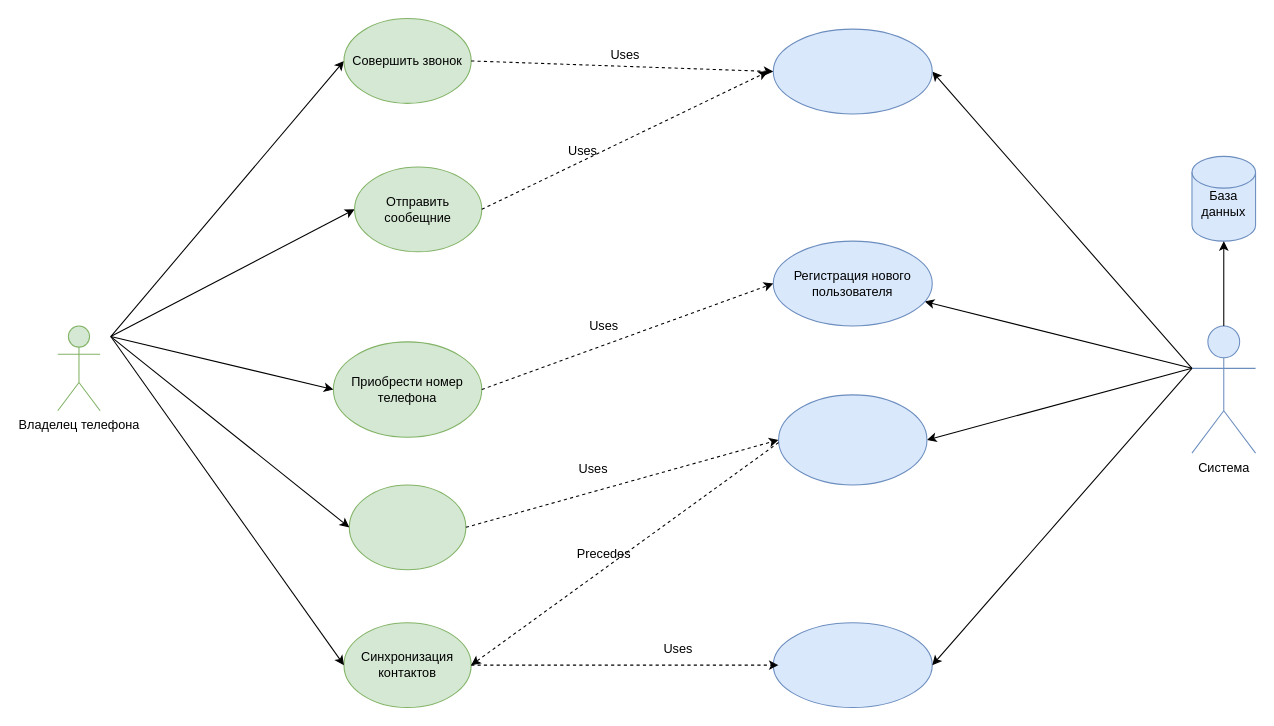
This 1274x726 diagram has some shape labels left out. Here are the shapes that lost their labels. From the top down, the box of each, then its label:
(772, 28, 932, 114): Соединение двух пользователей
(778, 394, 927, 485): Установка интернет-соединения
(348, 484, 466, 570): Использование интернета
(772, 622, 932, 708): Предоставление личной информации
